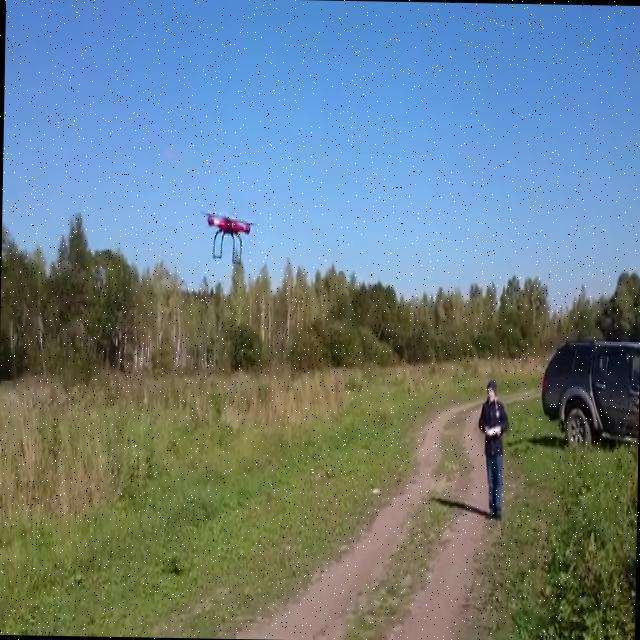Drons: (195, 208, 258, 268)
